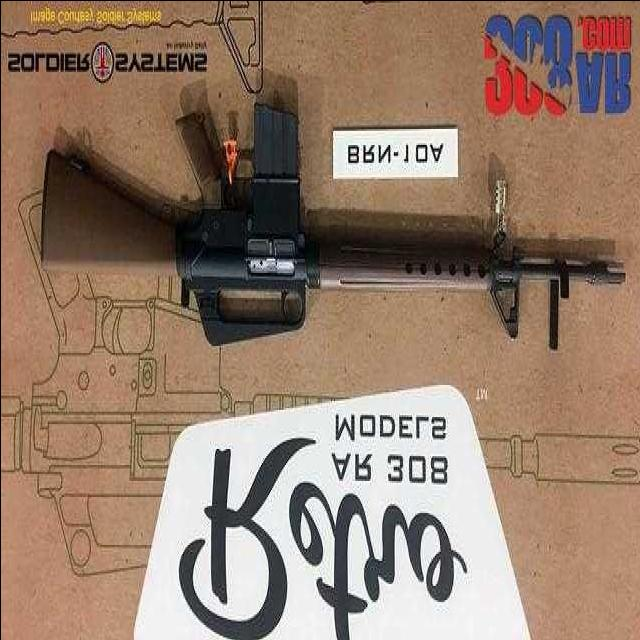heavyweapon: (37, 53, 628, 387)
